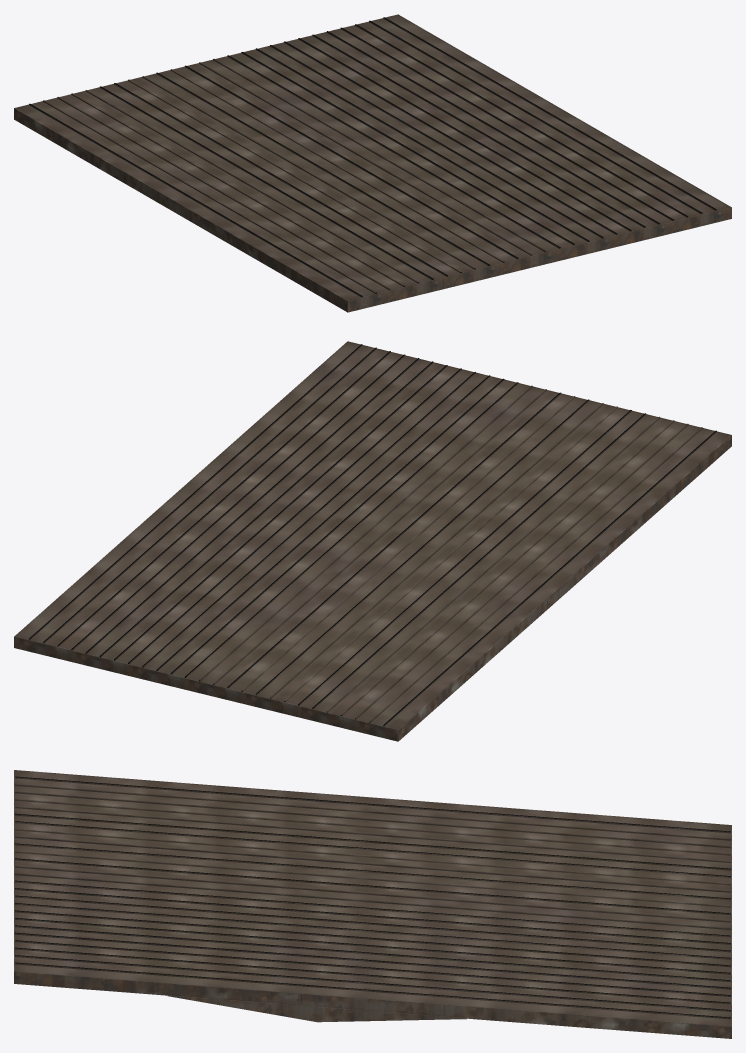
Rendered from arrival_roof.glb.
3 renders of one model, top to bottom at view 1: azimuth 30°, elevation 25°; view 2: azimuth 150°, elevation 25°; view 3: azimuth 270°, elevation 25°, orthographic. The views are drawn at different scales.
Visible parts, largest first — view 1: arrival_roof; view 2: arrival_roof; view 3: arrival_roof.
Boxes of the visible parts, x1=… form: arrival_roof: x1=14, y1=14, x2=731, y2=312; arrival_roof: x1=14, y1=341, x2=731, y2=741; arrival_roof: x1=14, y1=770, x2=731, y2=1038.
Bounding box in the file's own units: 16.31 × 2.57 × 24.47.
1 material, 1 textured.
